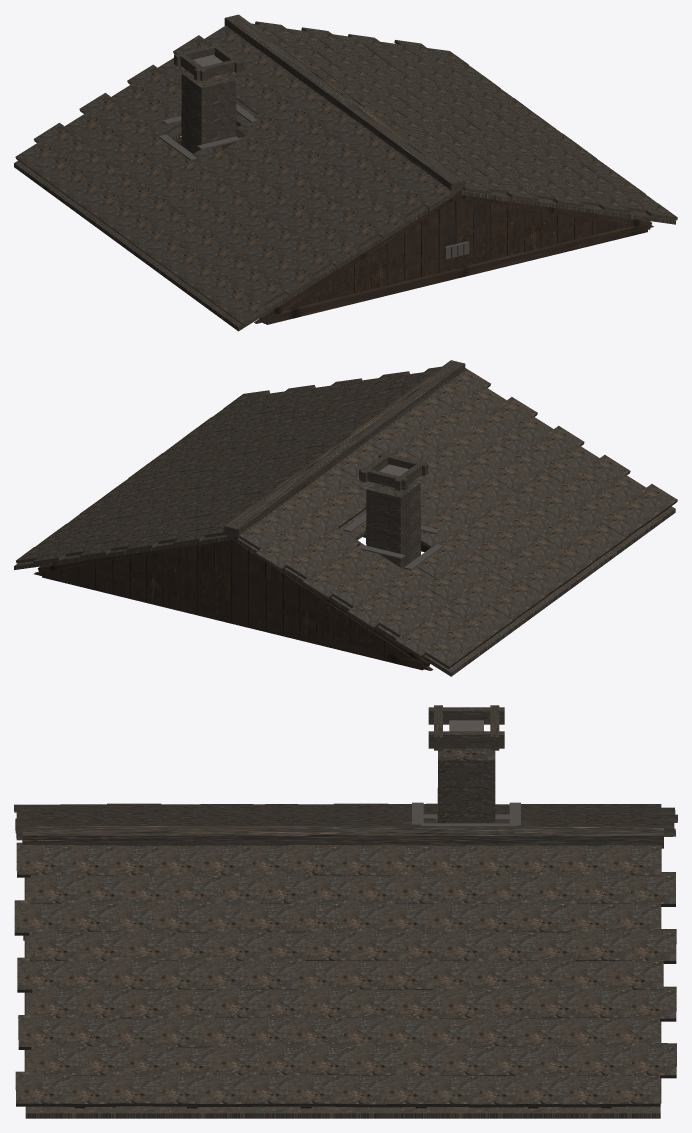
The model's file is blacksmith_roof_and_chimney_preview.glb.
3 views of the same model, one above another, from view 1: azimuth 30°, elevation 25°; view 2: azimuth 150°, elevation 25°; view 3: azimuth 270°, elevation 25° (orthographic). The views are drawn at different scales.
Parts seen in each view (by area): view 1: ASSET_ROOF_Gable_FRONT, ASSET_ROOF_HeavySlateRidge, ASSET_ROOF_FRONT_GableLowerTie, ASSET_ROOF_LeftSlopingDeck_0, ASSET_ROOF_FlueStoneCourse_06, ASSET_ROOF_RightSlopingDeck, ASSET_ROOF_FRONT_GableOuterTimber_1, ASSET_ROOF_FRONT_GableOuterTimber_-1, ASSET_ROOF_FlueStoneCourse_04, ASSET_ROOF_FlueStoneCourse_05, ASSET_ROOF_HandsplitSlate_-1_06_00, ASSET_ROOF_HandsplitSlate_-1_01_00 (+78 smaller); view 2: ASSET_ROOF_Gable_REAR, ASSET_ROOF_HeavySlateRidge, ASSET_ROOF_LeftSlopingDeck_0, ASSET_ROOF_REAR_GableLowerTie, ASSET_ROOF_FlueStoneCourse_06, ASSET_ROOF_RightSlopingDeck, ASSET_ROOF_FlueStoneCourse_04, ASSET_ROOF_FlueStoneCourse_05, ASSET_ROOF_HandsplitSlate_-1_06_13, ASSET_ROOF_HandsplitSlate_-1_02_13, ASSET_ROOF_HandsplitSlate_-1_08_12, ASSET_ROOF_HandsplitSlate_-1_06_06 (+79 smaller); view 3: ASSET_ROOF_HeavySlateRidge, ASSET_ROOF_RightSlopingDeck, ASSET_ROOF_FlueStoneCourse_06, ASSET_ROOF_HandsplitSlate_1_08_00, ASSET_ROOF_HandsplitSlate_1_08_02, ASSET_ROOF_HandsplitSlate_1_03_12, ASSET_ROOF_HandsplitSlate_1_02_01, ASSET_ROOF_HandsplitSlate_1_02_11, ASSET_ROOF_HandsplitSlate_1_03_09, ASSET_ROOF_HandsplitSlate_1_05_12, ASSET_ROOF_HandsplitSlate_1_04_02, ASSET_ROOF_HandsplitSlate_1_01_12 (+121 smaller).
Part boxes in pixels (bbox=[...]): ASSET_ROOF_Gable_FRONT: bbox=[254, 198, 653, 323]; ASSET_ROOF_HeavySlateRidge: bbox=[224, 14, 465, 191]; ASSET_ROOF_FRONT_GableLowerTie: bbox=[265, 224, 647, 324]; ASSET_ROOF_LeftSlopingDeck_0: bbox=[14, 161, 339, 331]; ASSET_ROOF_FlueStoneCourse_06: bbox=[181, 71, 235, 106]; ASSET_ROOF_RightSlopingDeck: bbox=[457, 190, 675, 224]; ASSET_ROOF_FRONT_GableOuterTimber_1: bbox=[460, 195, 651, 229]; ASSET_ROOF_FRONT_GableOuterTimber_-1: bbox=[259, 198, 453, 323]; ASSET_ROOF_FlueStoneCourse_04: bbox=[181, 109, 236, 142]; ASSET_ROOF_FlueStoneCourse_05: bbox=[181, 92, 236, 123]; ASSET_ROOF_HandsplitSlate_-1_06_00: bbox=[271, 264, 316, 296]; ASSET_ROOF_HandsplitSlate_-1_01_00: bbox=[382, 187, 426, 218]; ASSET_ROOF_Gable_REAR: bbox=[34, 539, 433, 670]; ASSET_ROOF_HeavySlateRidge: bbox=[224, 360, 465, 538]; ASSET_ROOF_LeftSlopingDeck_0: bbox=[349, 506, 675, 676]; ASSET_ROOF_REAR_GableLowerTie: bbox=[42, 569, 423, 670]; ASSET_ROOF_FlueStoneCourse_06: bbox=[366, 481, 420, 515]; ASSET_ROOF_RightSlopingDeck: bbox=[14, 535, 232, 569]; ASSET_ROOF_FlueStoneCourse_04: bbox=[366, 519, 420, 552]; ASSET_ROOF_FlueStoneCourse_05: bbox=[366, 501, 420, 533]; ASSET_ROOF_HandsplitSlate_-1_06_13: bbox=[377, 607, 422, 637]; ASSET_ROOF_HandsplitSlate_-1_02_13: bbox=[284, 549, 329, 579]; ASSET_ROOF_HandsplitSlate_-1_08_12: bbox=[439, 625, 484, 657]; ASSET_ROOF_HandsplitSlate_-1_06_06: bbox=[489, 525, 534, 555]; ASSET_ROOF_HeavySlateRidge: bbox=[22, 826, 663, 848]; ASSET_ROOF_RightSlopingDeck: bbox=[25, 877, 660, 1118]; ASSET_ROOF_FlueStoneCourse_06: bbox=[438, 748, 495, 785]; ASSET_ROOF_HandsplitSlate_1_08_00: bbox=[15, 1071, 72, 1106]; ASSET_ROOF_HandsplitSlate_1_08_02: bbox=[106, 1071, 162, 1106]; ASSET_ROOF_HandsplitSlate_1_03_12: bbox=[575, 928, 632, 960]; ASSET_ROOF_HandsplitSlate_1_02_01: bbox=[61, 899, 118, 932]; ASSET_ROOF_HandsplitSlate_1_02_11: bbox=[514, 899, 569, 932]; ASSET_ROOF_HandsplitSlate_1_03_09: bbox=[439, 928, 495, 960]; ASSET_ROOF_HandsplitSlate_1_05_12: bbox=[575, 985, 630, 1018]; ASSET_ROOF_HandsplitSlate_1_04_02: bbox=[106, 957, 161, 989]; ASSET_ROOF_HandsplitSlate_1_01_12: bbox=[576, 871, 630, 903].
Size of the model in its own units: 8.65 by 2.76 by 8.04.
9 materials, 7 textured.
